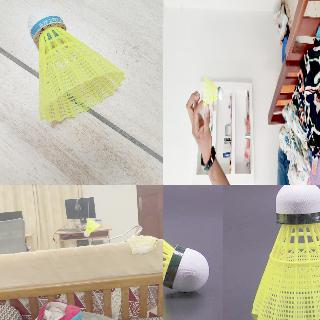shuttlecock: (28, 8, 122, 122), (251, 185, 319, 319), (163, 189, 209, 292), (202, 75, 223, 105), (84, 218, 100, 236)
